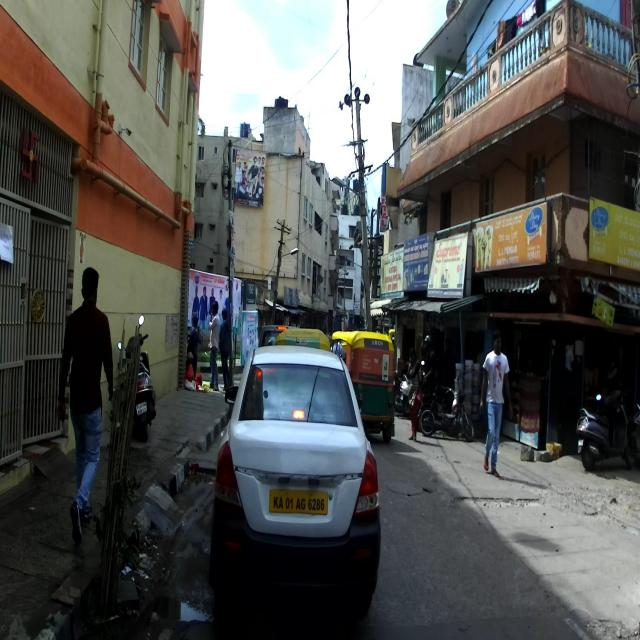autorickshaw: (328, 330, 395, 444)
car: (210, 344, 380, 611)
motorcycle: (416, 373, 474, 441)
scooter: (117, 314, 156, 442), (576, 390, 632, 470), (399, 360, 427, 418)
